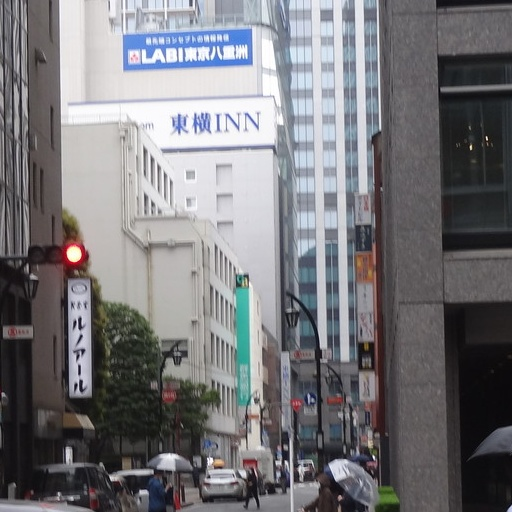Traffic_Signal_Red: (20, 237, 97, 269)
